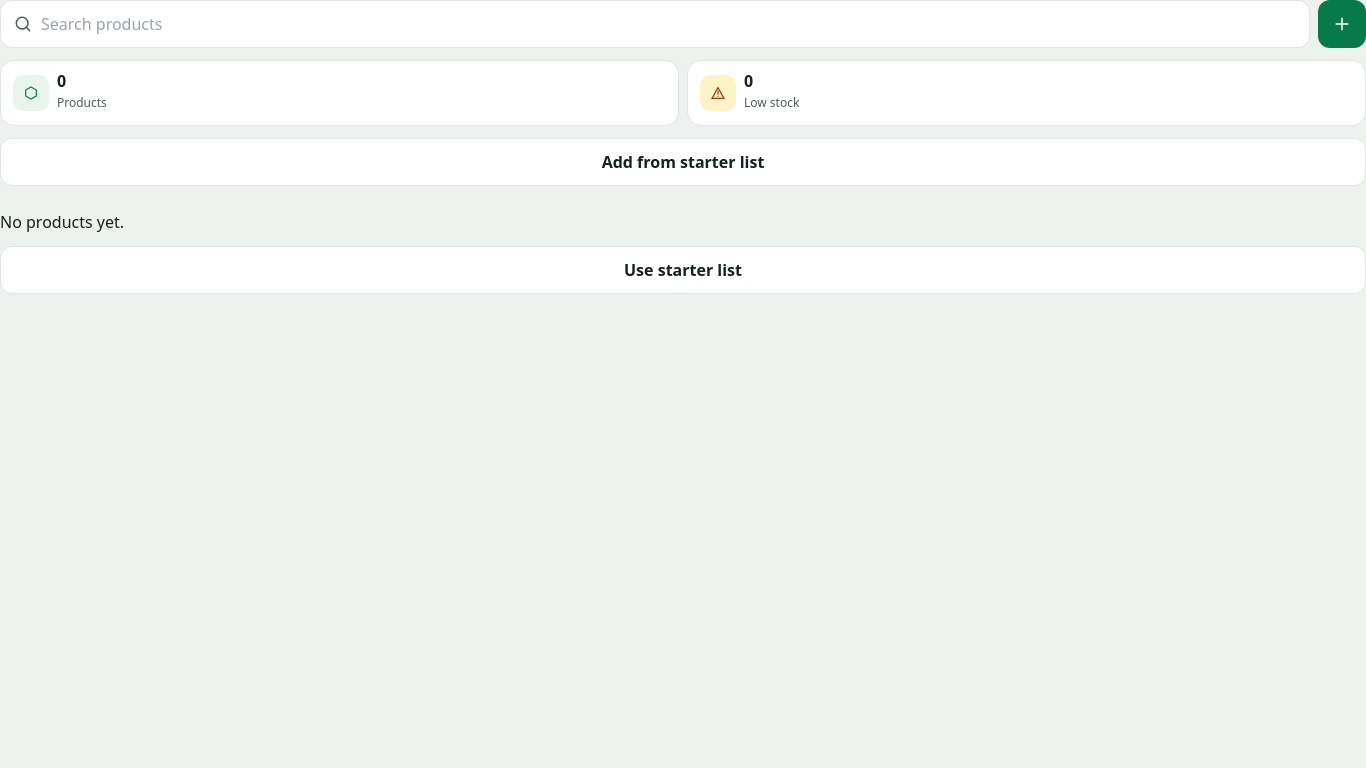
Scenario: items screen › sends an edited starter price as the apply override
Click the button "Use starter list" at [683, 270], box 0,246 -> 1365,294
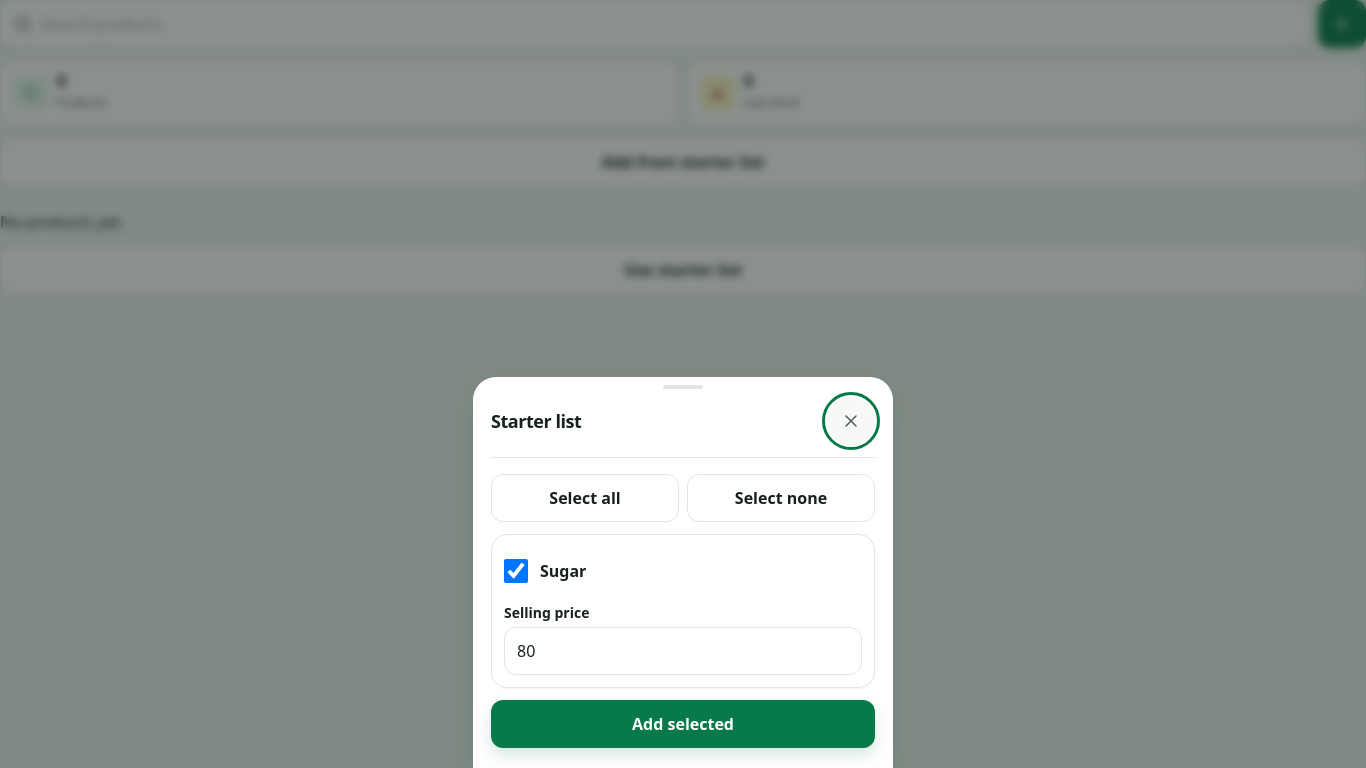
Replace the text in the field named "Selling price Sugar" with "90" at [683, 651], box 504,627 -> 862,675
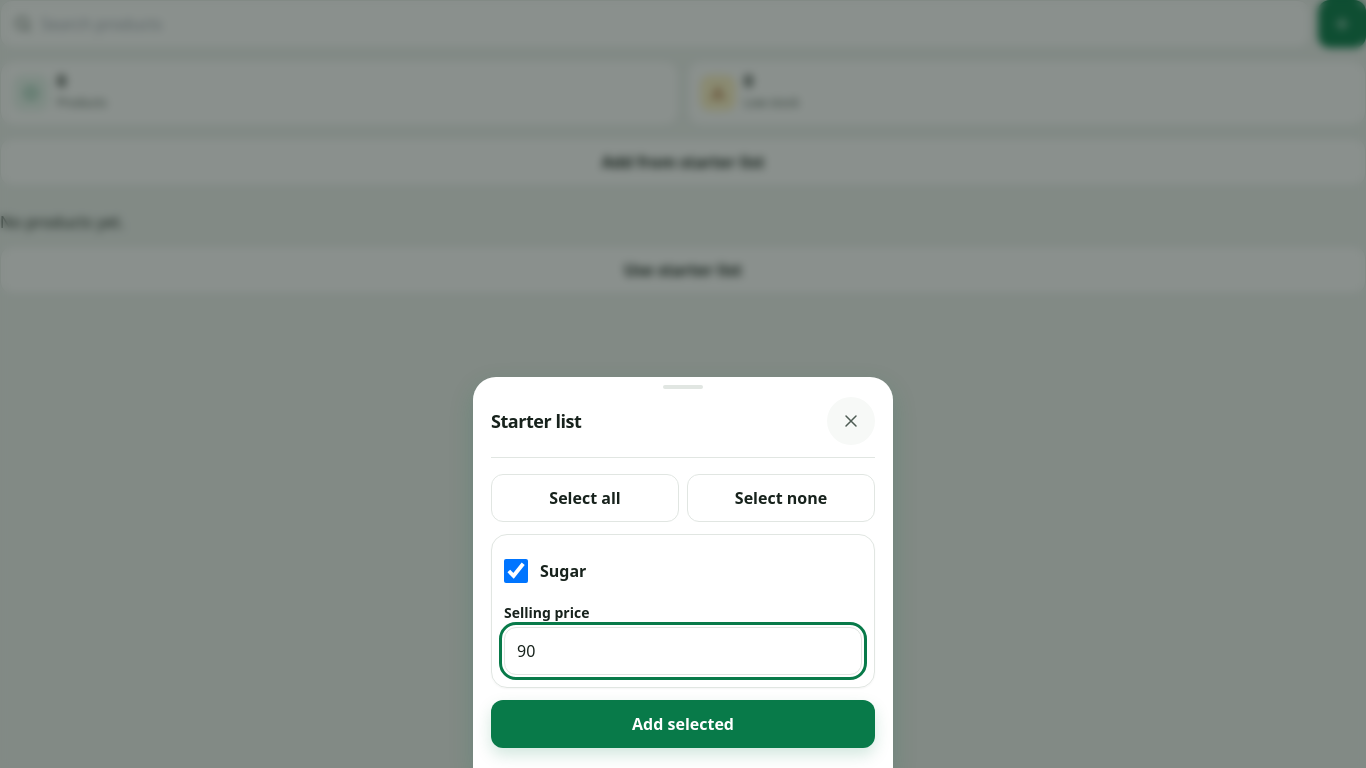
Click the button "Add selected" at [683, 724], box 491,700 -> 875,748
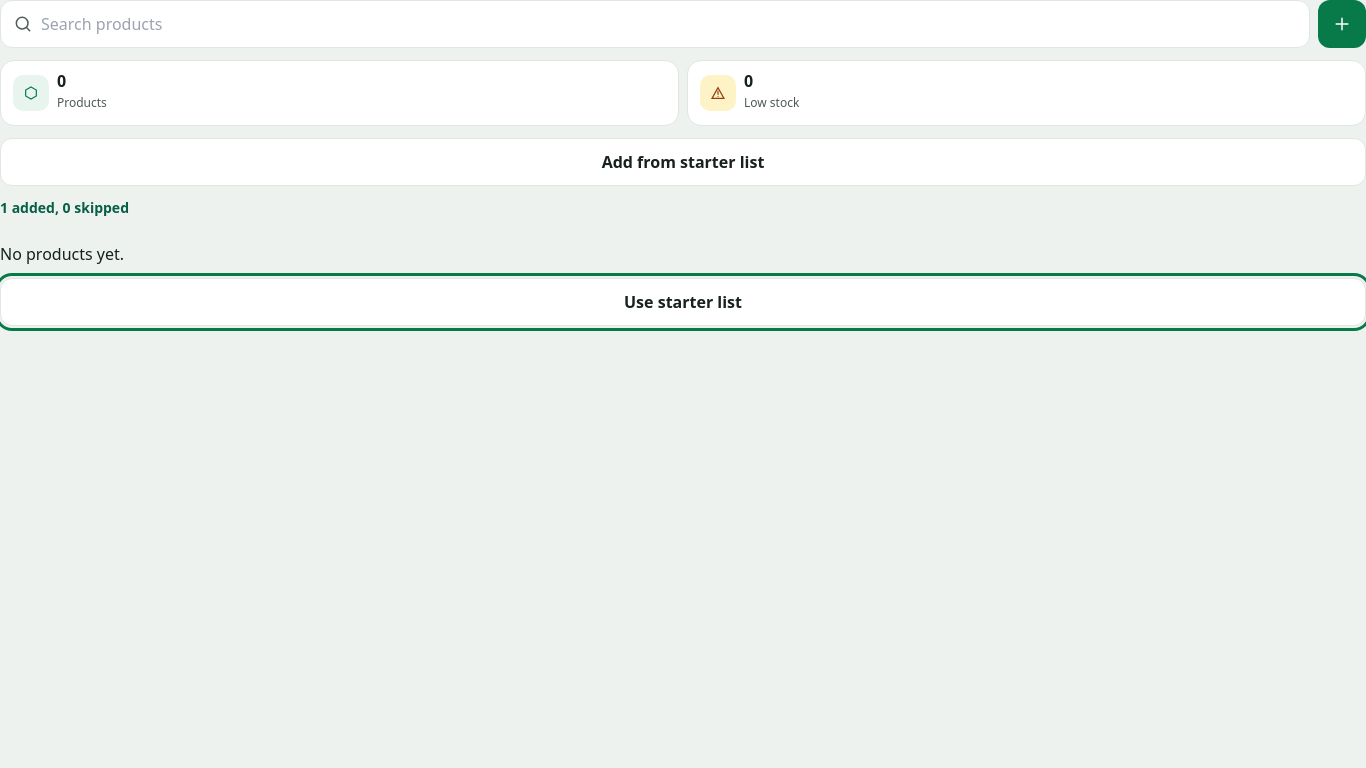
Check: the text "1 added, 0 skipped" is shown, box 0,198 -> 129,217
